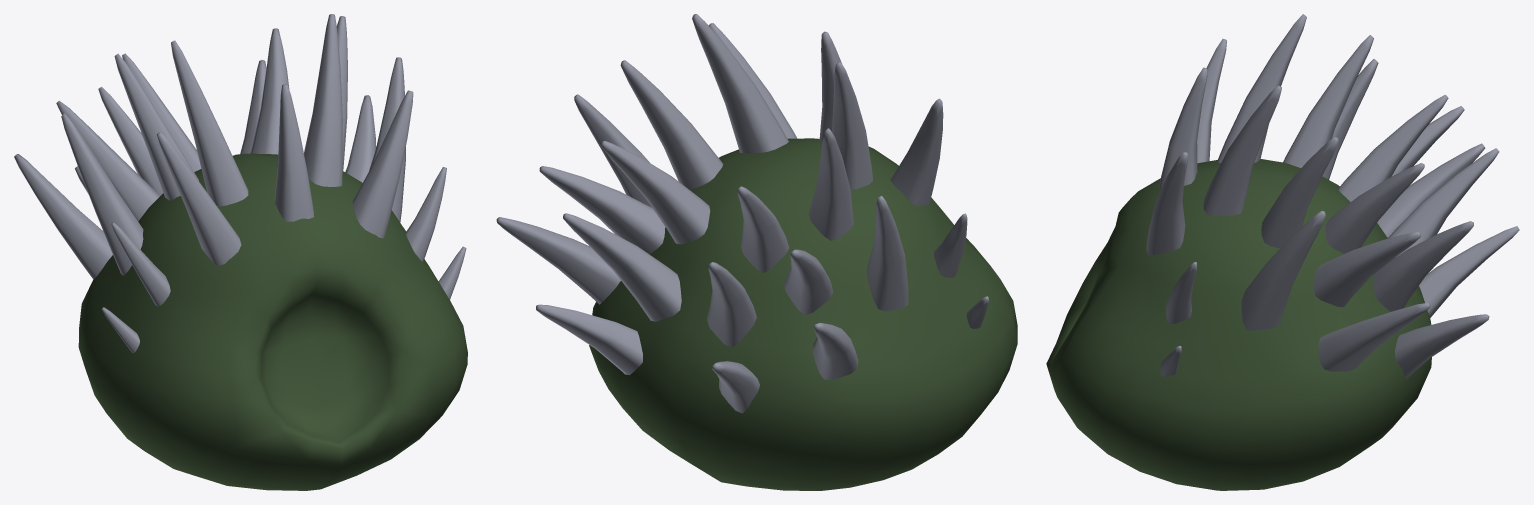
File: GreenSpiky_Blob.fbx
The picture shows the model from 3 angles, left to right: view 1: azimuth 30°, elevation 25°; view 2: azimuth 150°, elevation 25°; view 3: azimuth 270°, elevation 25°; orthographic projection. The views are drawn at different scales.
Parts seen in each view (by area): view 1: GreenSpiky_Blob; view 2: GreenSpiky_Blob; view 3: GreenSpiky_Blob.
Boxes of the visible parts, box(x1,y1,x2,y2) form: GreenSpiky_Blob: box(14, 14, 467, 490); GreenSpiky_Blob: box(496, 14, 1017, 490); GreenSpiky_Blob: box(1046, 14, 1519, 490).
Bounding box in the file's own units: 214 × 236 × 239.
